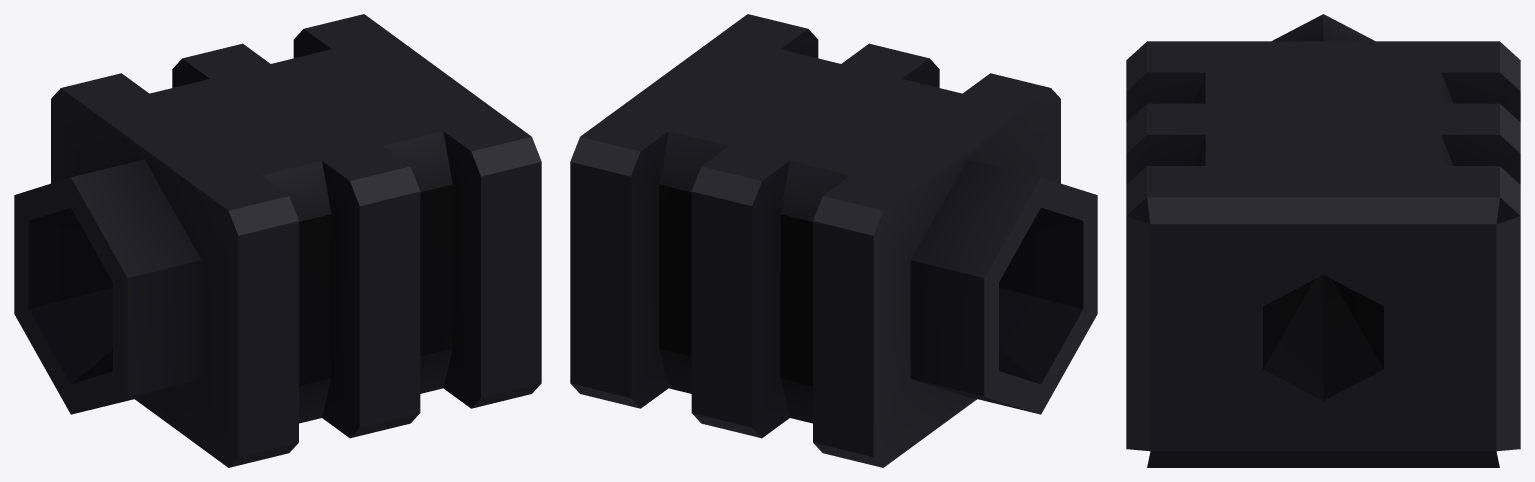
File: k-muzzledevice-9-03.glb
3 renders of one model, left to right at view 1: azimuth 30°, elevation 25°; view 2: azimuth 150°, elevation 25°; view 3: azimuth 270°, elevation 25°, orthographic. The views are drawn at different scales.
Visible parts, largest first — view 1: kit; view 2: kit; view 3: kit.
Part boxes in pixels (x1,y1,x2,y2): kit: (14, 14, 541, 467); kit: (570, 14, 1097, 467); kit: (1126, 14, 1520, 467).
Bounding box in the file's own units: 0.0304 × 0.0193 × 0.0255.
Materials: 1 (1 with a texture image).
